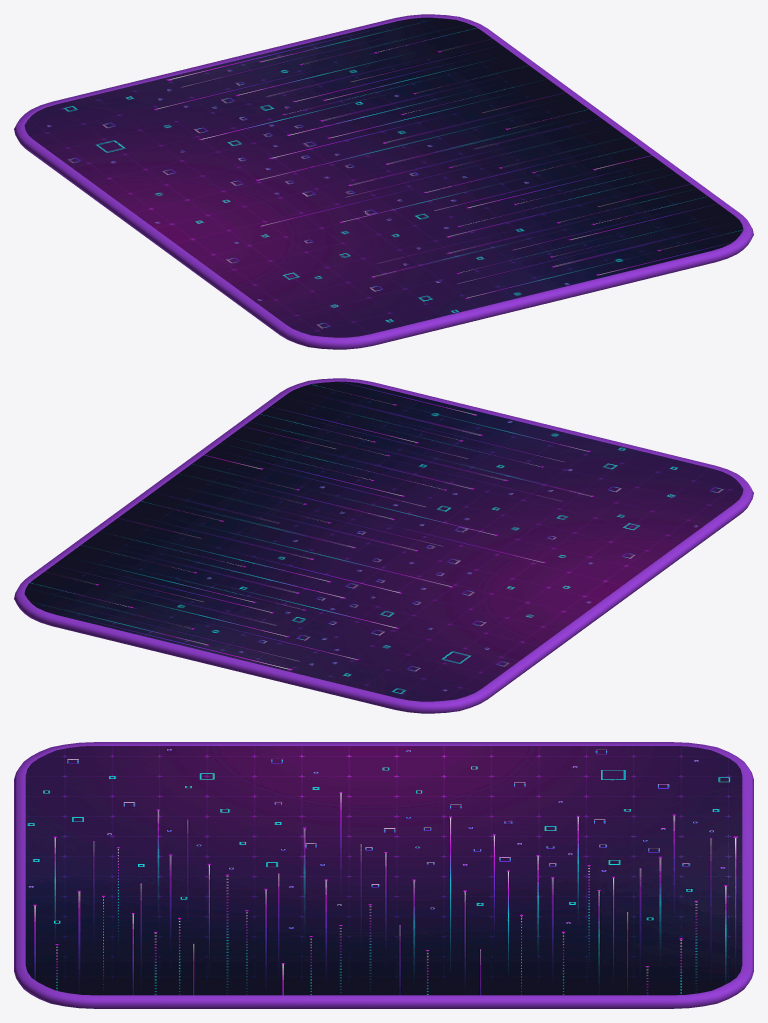
Rendered from Alfombrilla 1.fbx.
The picture shows the model from 3 angles, top to bottom: view 1: azimuth 30°, elevation 25°; view 2: azimuth 150°, elevation 25°; view 3: azimuth 270°, elevation 25°; orthographic projection. The views are drawn at different scales.
Parts seen in each view (by area): view 1: Cube; view 2: Cube; view 3: Cube.
Part boxes in pixels (x1,y1,x2,y2): Cube: [14, 14, 753, 349]; Cube: [14, 378, 753, 713]; Cube: [14, 742, 753, 1008].
Size of the model in its own units: 563 by 9.92 by 679.
